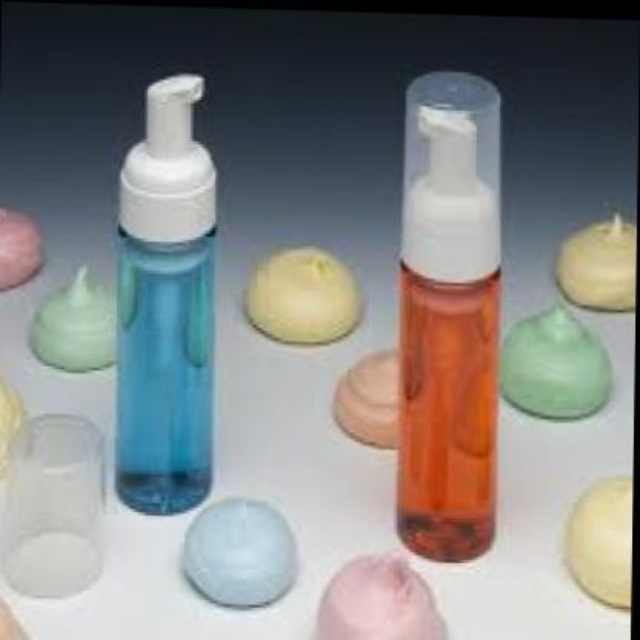trash: (397, 72, 500, 560), (115, 74, 214, 512)
